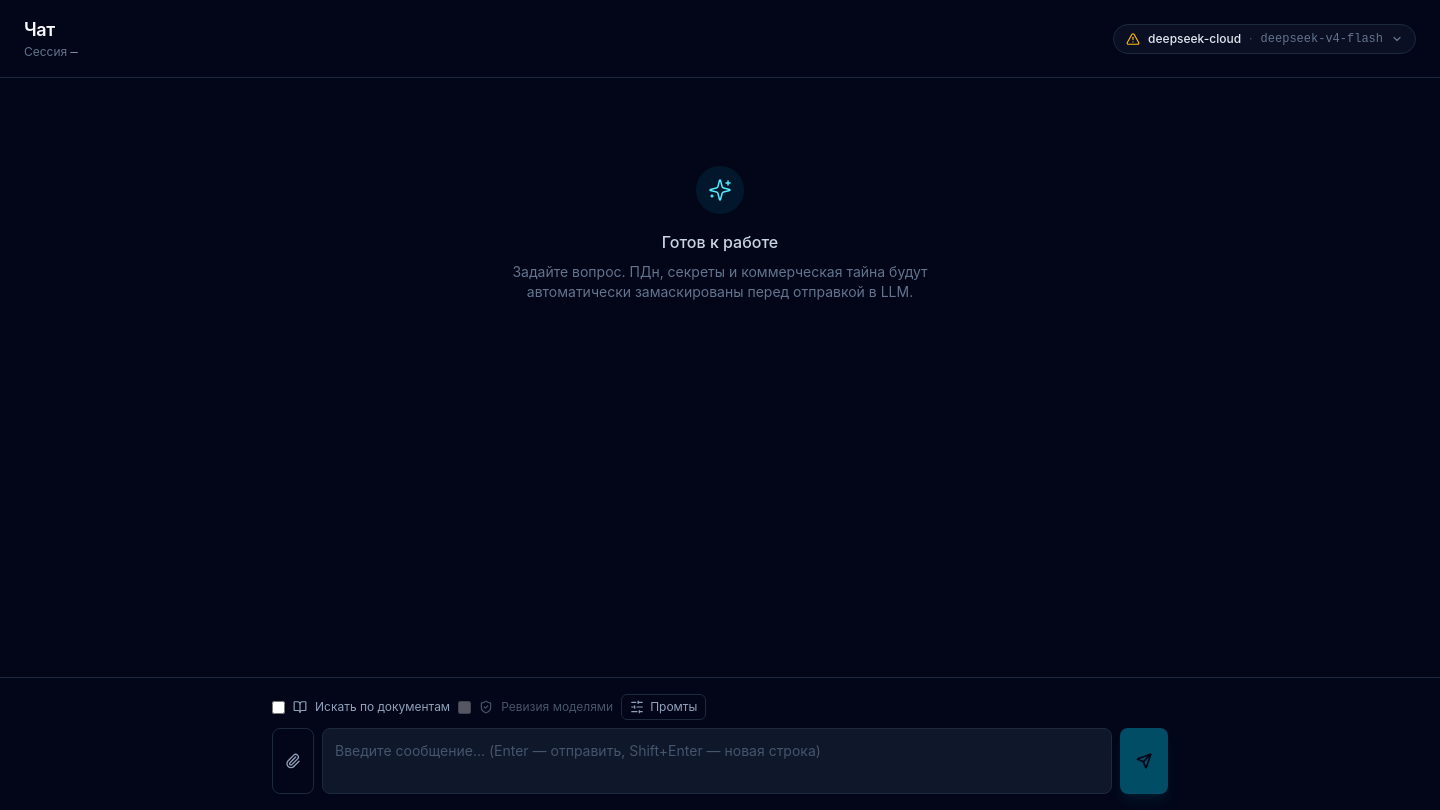
Test: ChatPage — reveal реальных данных (J.2) › стримит ответ с псевдонимами и раскрывает реальные данные по кнопке
This screenshot has width=1440, height=810.
Check: the text "deepseek-cloud" is shown, box [1148,30,1241,46]
Replace the text in the text box labelled "сообщение" with "тест" at (717, 761), box [322,728,1112,794]
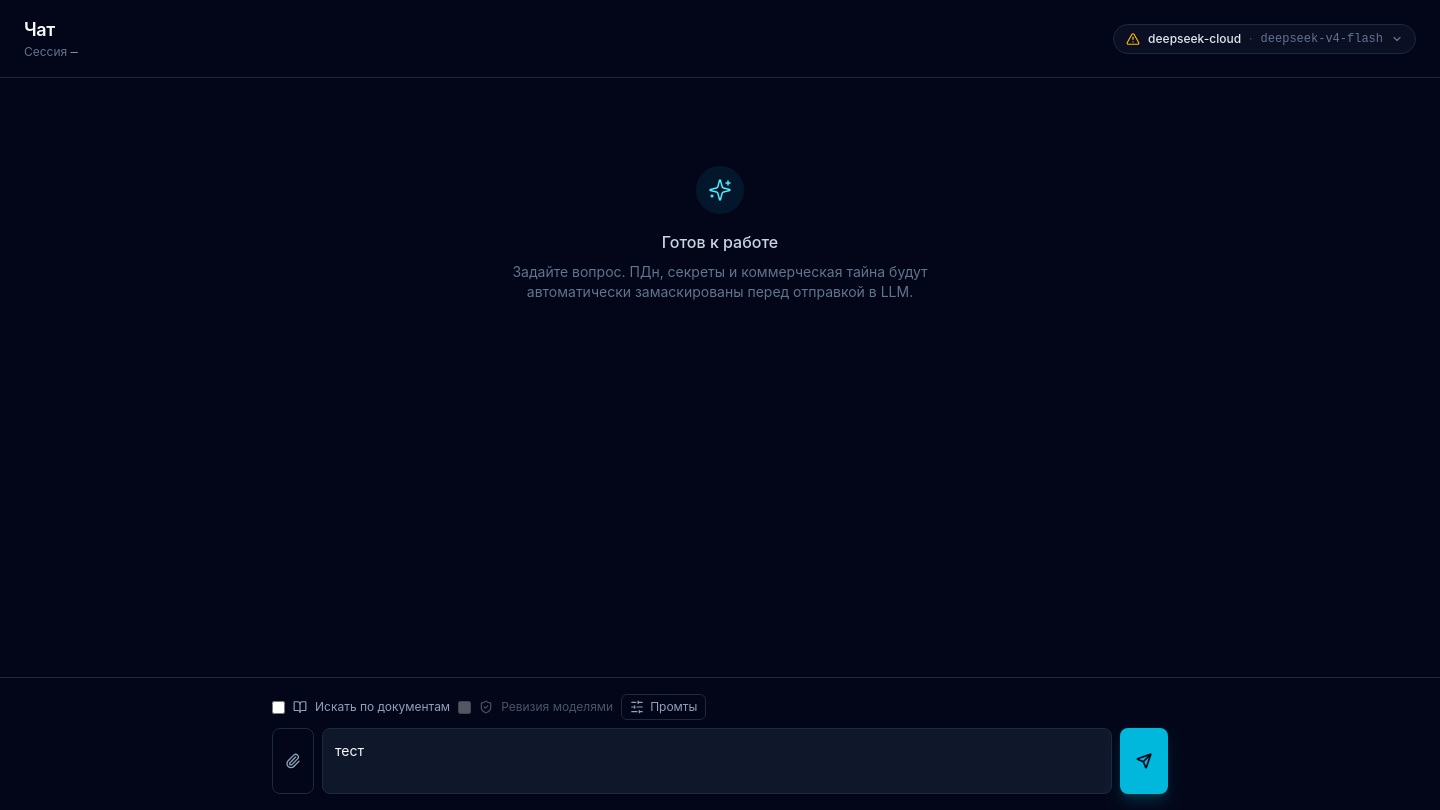
Press Enter in the text box named "сообщение", box [322,728,1112,794]
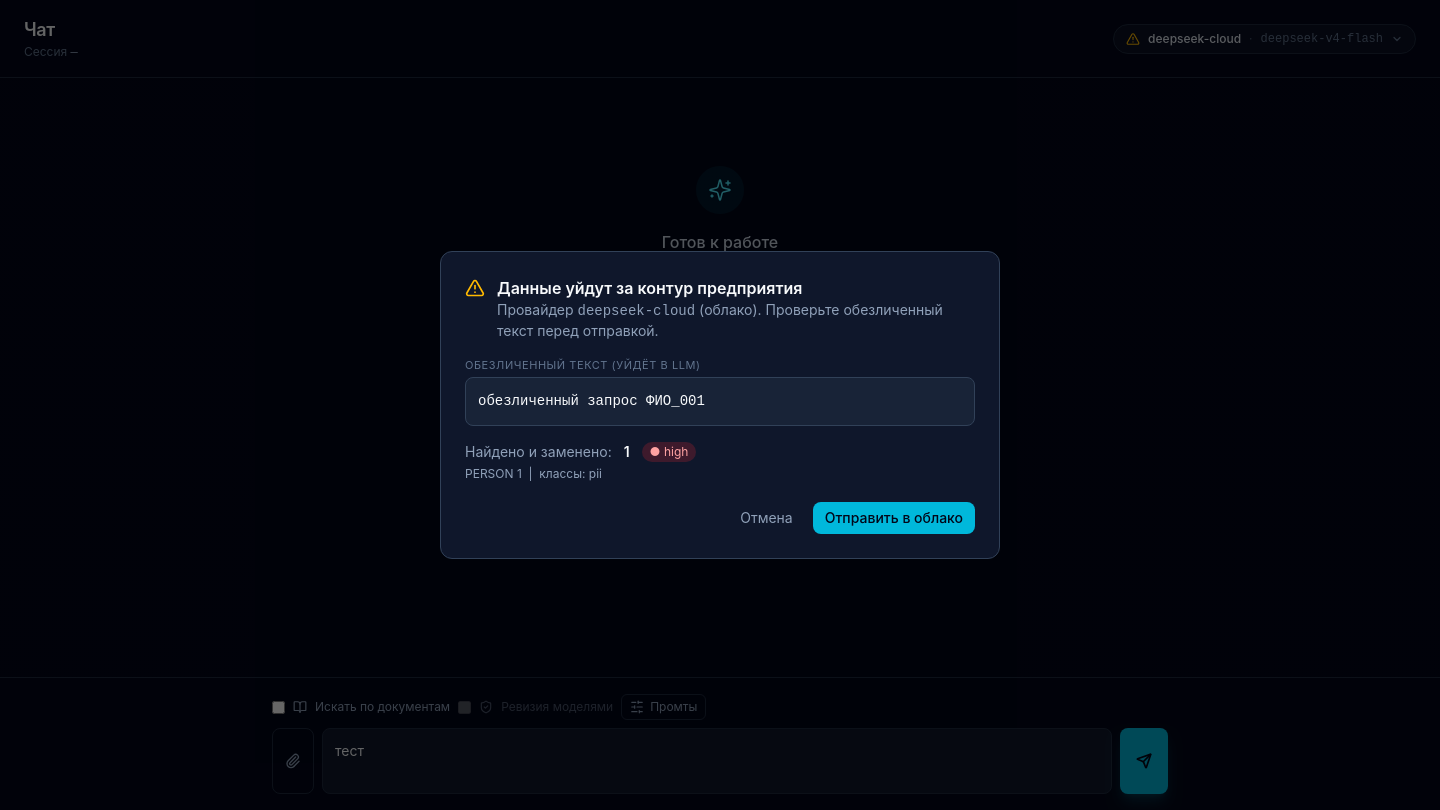
Click the button "Отправить в облако".
click(894, 518)  # box [813,502,975,534]
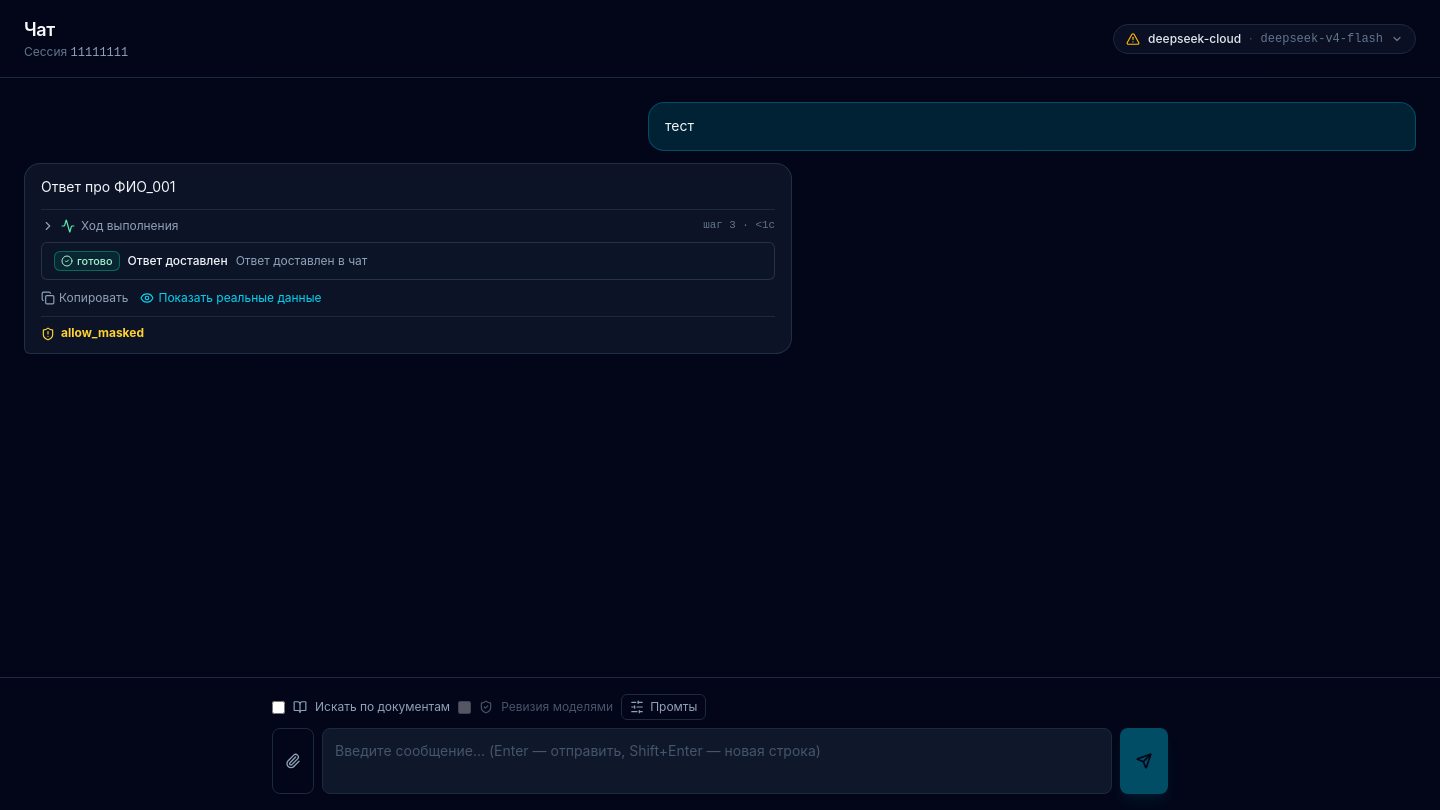
Check: the text "Ответ про ФИО_001" is shown, box [41,178,176,195]
Click the button "Показать реальные данные".
click(231, 298)  # box [140,290,322,306]
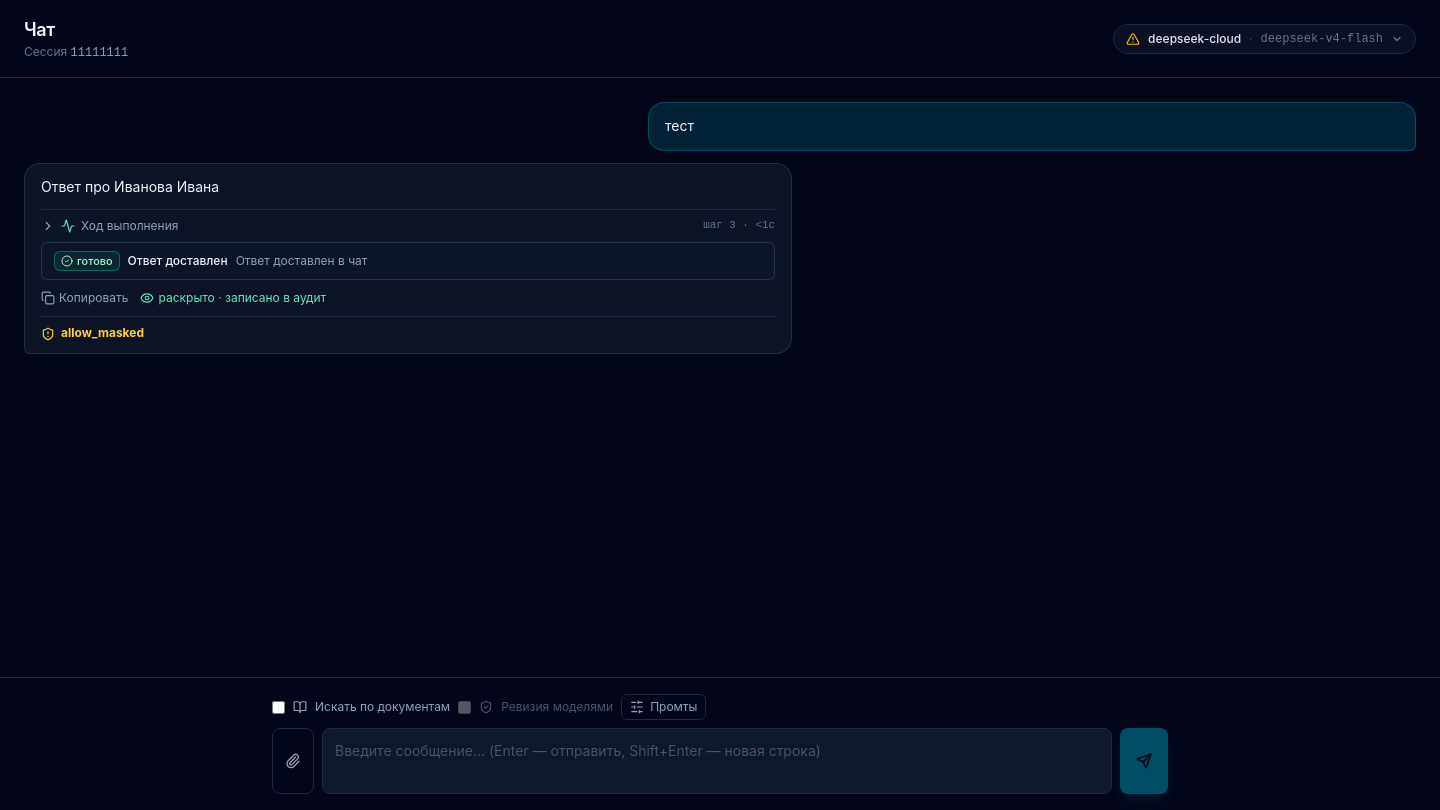
Check: the text "Ответ про Иванова Ивана" is shown, box [41,178,219,195]
Check: the text "раскрыто · записано в аудит" is shown, box [140,290,326,306]
